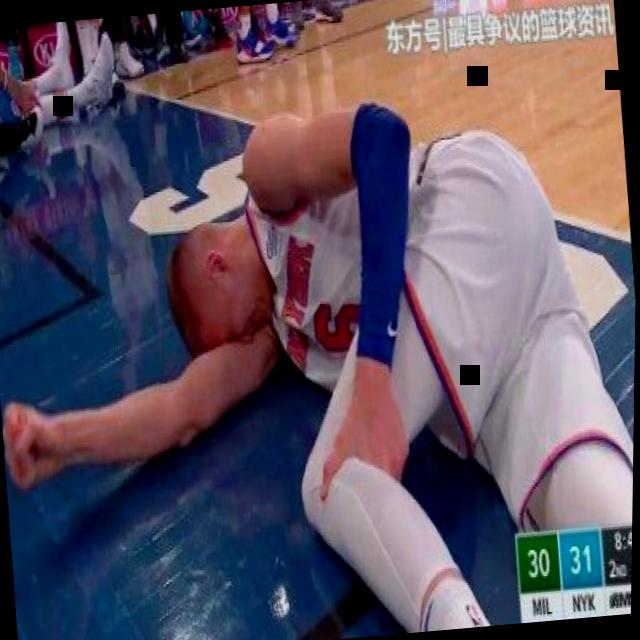Fall-Detected: (0, 27, 640, 640)
